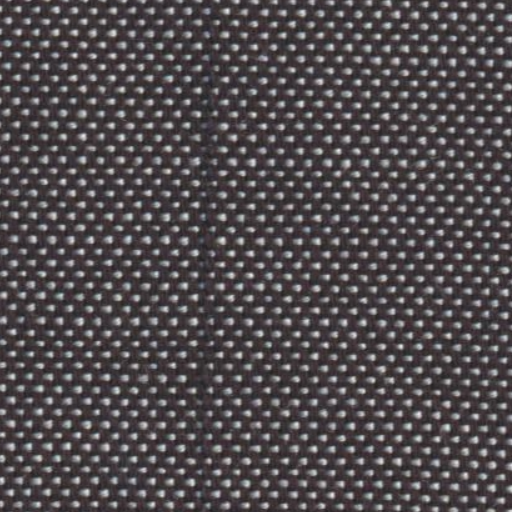TuoSha: (176, 11, 244, 498)
